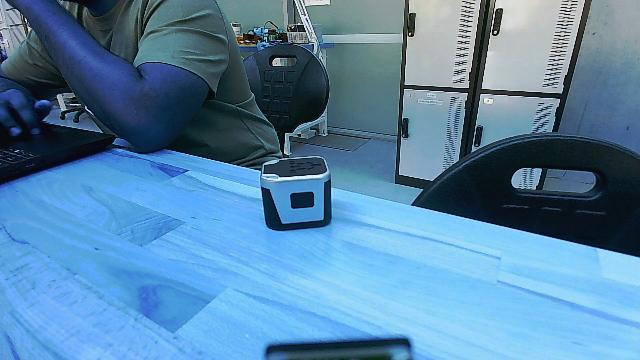adapter: (253, 152, 335, 236)
